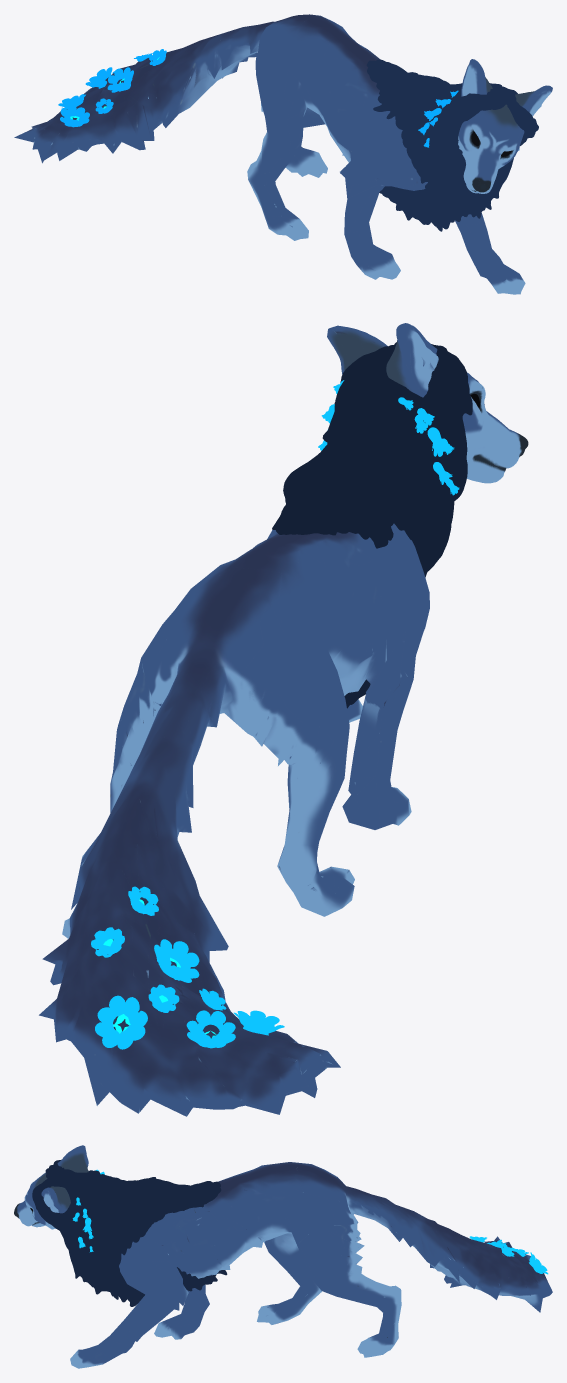
3 views of the same model, one above another, from view 1: azimuth 30°, elevation 25°; view 2: azimuth 150°, elevation 25°; view 3: azimuth 270°, elevation 25° (orthographic). The views are drawn at different scales.
Parts seen in each view (by area): view 1: LPfloralou body_3, LPmane_2, LPfloralou head_4, longFlowerBase.016_0; view 2: LPfloralou body_3, LPmane_2, longFlowerBase.016_0, LPfloralou head_4; view 3: LPfloralou body_3, LPmane_2, LPfloralou head_4, longFlowerBase.016_0.
Boxes of the visible parts, <box> form: LPfloralou body_3: <box>14,14,525,294</box>; LPmane_2: <box>366,59,538,231</box>; LPfloralou head_4: <box>458,59,552,193</box>; longFlowerBase.016_0: <box>58,49,458,147</box>; LPfloralou body_3: <box>39,523,429,1116</box>; LPmane_2: <box>272,342,472,708</box>; longFlowerBase.016_0: <box>91,380,459,1049</box>; LPfloralou head_4: <box>327,323,528,483</box>; LPfloralou body_3: <box>70,1162,552,1368</box>; LPmane_2: <box>32,1159,227,1306</box>; LPfloralou head_4: <box>14,1145,88,1229</box>; longFlowerBase.016_0: <box>72,1169,548,1274</box>.
Size of the model in its own units: 3 by 2.64 by 6.27.
Materials: 5 (1 with a texture image).
